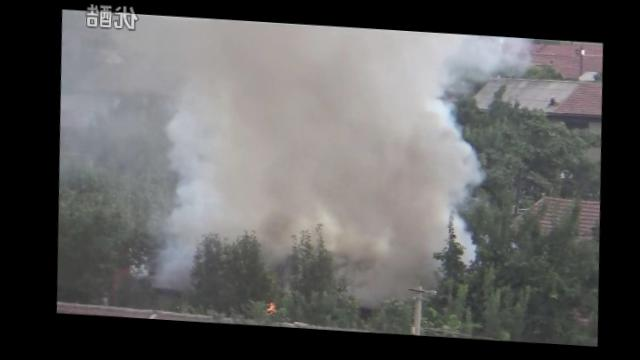fire: (262, 302, 273, 315)
